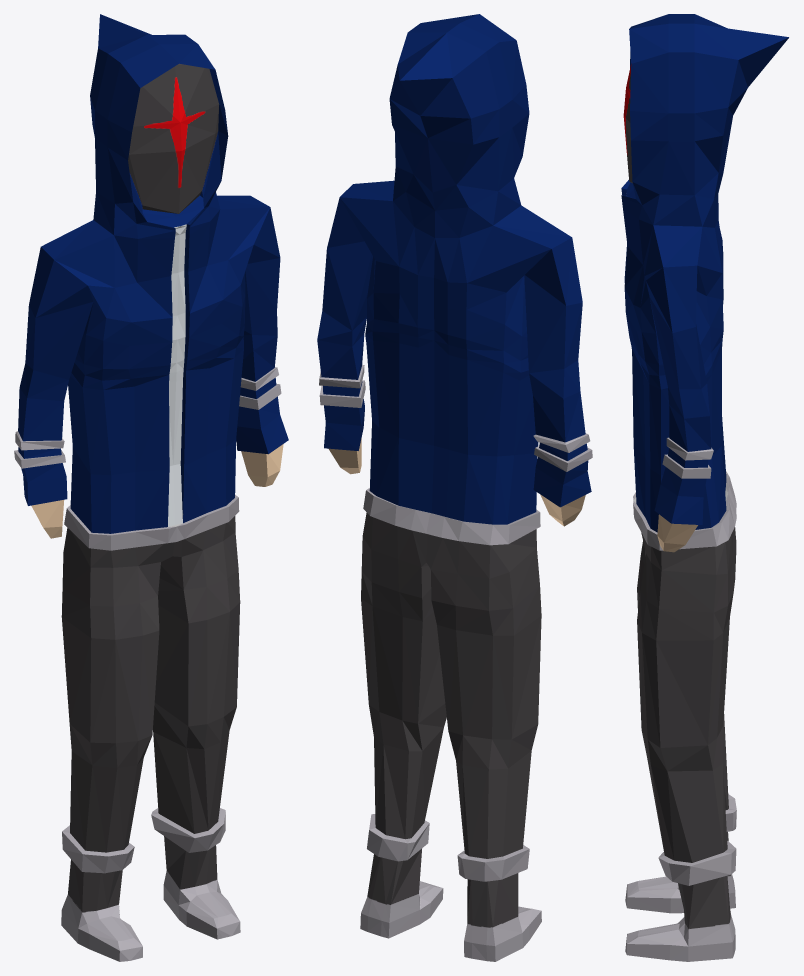
Rendered from Eldric.obj.
The picture shows the model from 3 angles, left to right: view 1: azimuth 30°, elevation 25°; view 2: azimuth 150°, elevation 25°; view 3: azimuth 270°, elevation 25°; orthographic projection.
Visible parts, largest first — view 1: Cube; view 2: Cube; view 3: Cube.
Boxes of the visible parts, box(x1,y1,x2,y2) form: Cube: box(14, 14, 288, 961); Cube: box(317, 14, 592, 961); Cube: box(621, 14, 788, 961).
Size of the model in its own units: 4.43 by 14.2 by 2.4.
